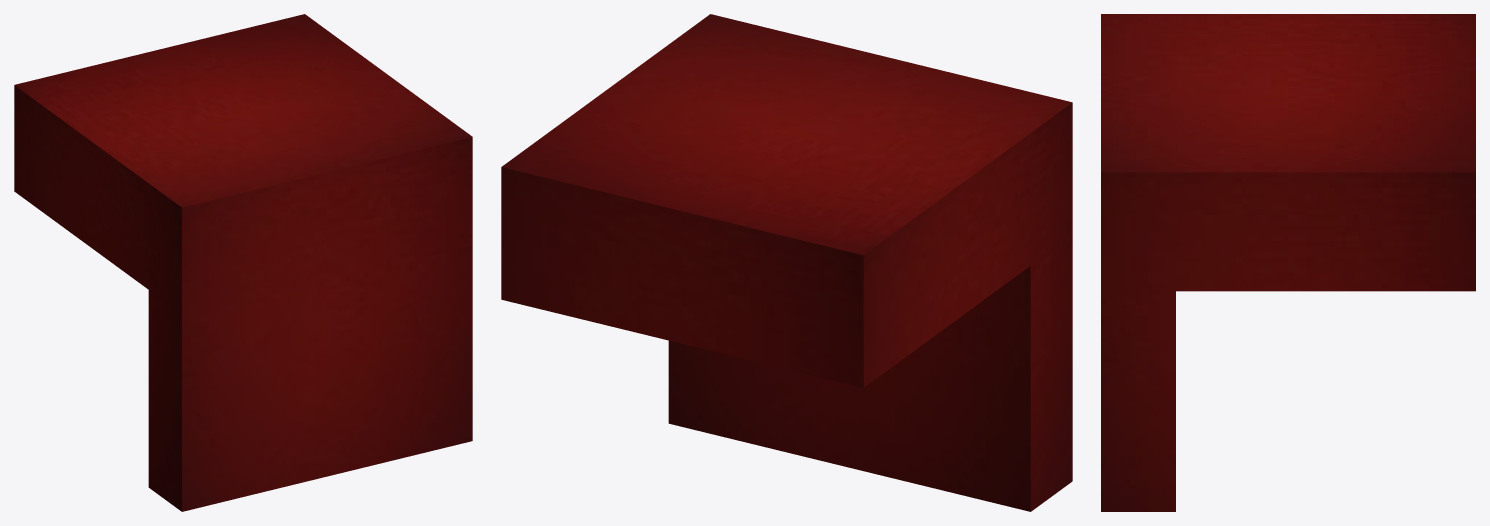
File: but.obj
The picture shows the model from 3 angles, left to right: view 1: azimuth 30°, elevation 25°; view 2: azimuth 150°, elevation 25°; view 3: azimuth 270°, elevation 25°; orthographic projection. The views are drawn at different scales.
Visible parts, largest first — view 1: Mesh_Mesh1_Group1_Model; view 2: Mesh_Mesh1_Group1_Model; view 3: Mesh_Mesh1_Group1_Model.
Boxes of the visible parts, x1,y1,x2,y2 form: Mesh_Mesh1_Group1_Model: [14, 14, 472, 511]; Mesh_Mesh1_Group1_Model: [501, 14, 1072, 511]; Mesh_Mesh1_Group1_Model: [1101, 14, 1475, 511].
Size of the model in its own units: 1 by 1 by 1.
